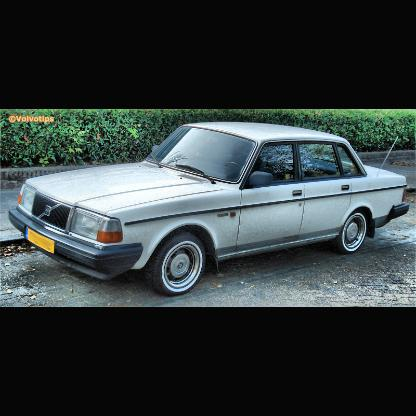Volvo 240 Sedan 1993: (7, 121, 410, 298)
